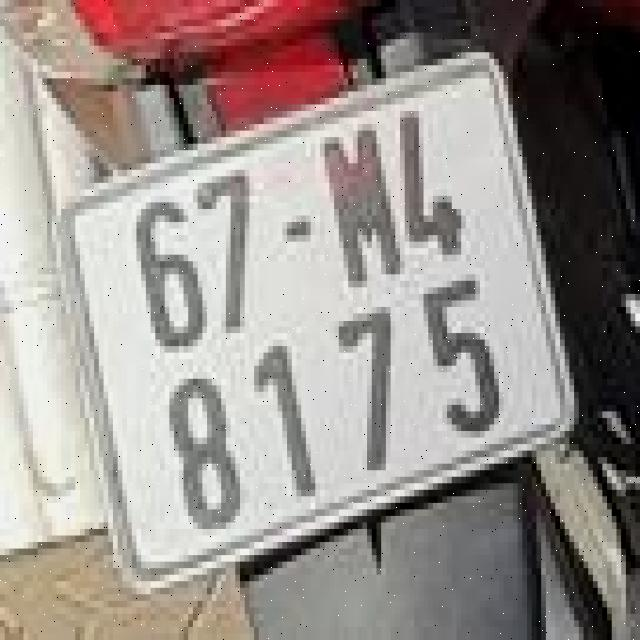1: (259, 323, 315, 539)
4: (398, 85, 468, 300)
5: (419, 268, 513, 450)
6: (136, 150, 212, 379)
7: (334, 294, 410, 509), (195, 153, 261, 369)
8: (167, 343, 242, 565)
M: (322, 88, 398, 317)
